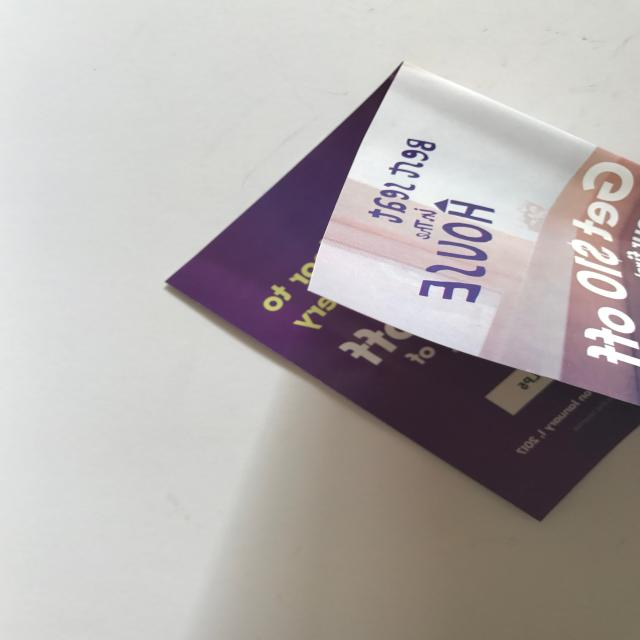paper: (145, 51, 640, 534)
